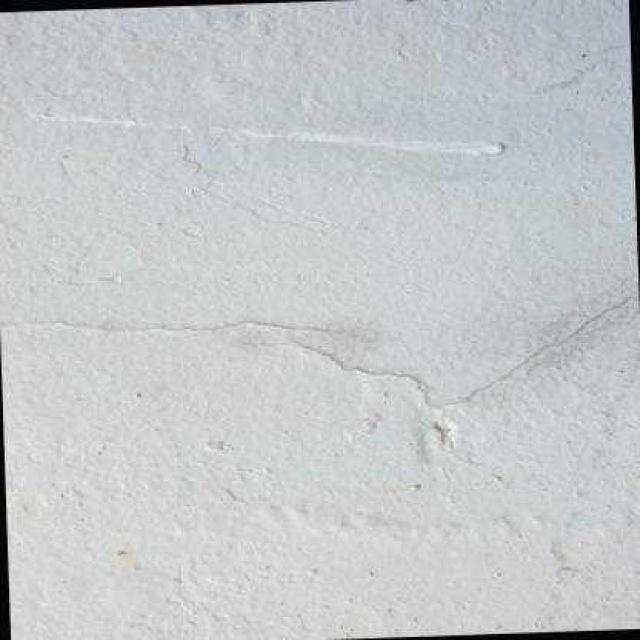D00: (241, 290, 640, 413), (0, 317, 341, 334)
